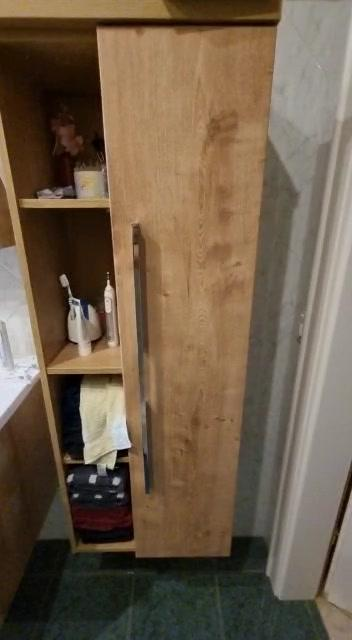cabinet_door: (112, 6, 266, 563)
handle: (128, 214, 164, 504)
